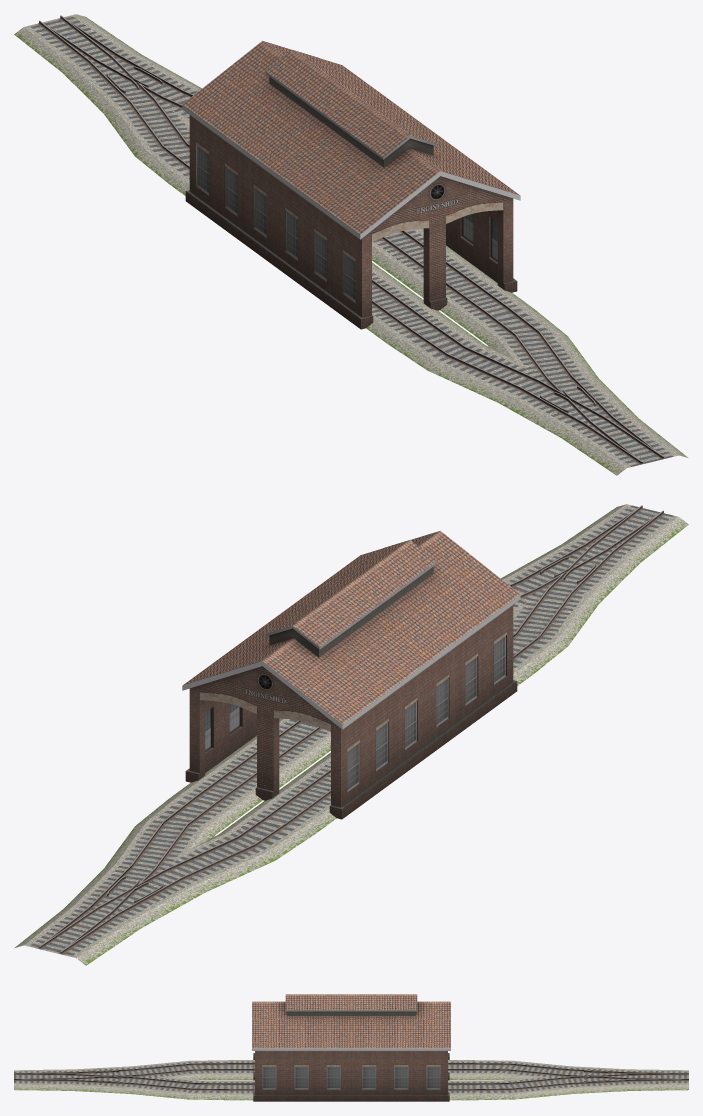
Rendered from EngineShed1.fbx.
3 renders of one model, top to bottom at view 1: azimuth 30°, elevation 25°; view 2: azimuth 150°, elevation 25°; view 3: azimuth 270°, elevation 25°, orthographic. The views are drawn at different scales.
Parts seen in each view (by area): view 1: U3DMesh; view 2: U3DMesh; view 3: U3DMesh.
Part boxes in pixels (x1,y1,x2,y2): U3DMesh: (14, 14, 687, 475); U3DMesh: (15, 504, 688, 965); U3DMesh: (14, 994, 688, 1101).
Size of the model in its own units: 9.81 by 8.99 by 64.
